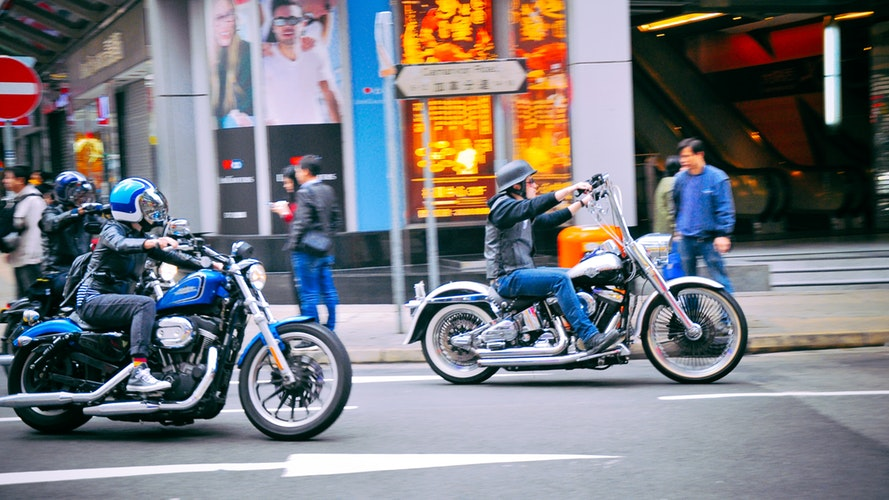helmet: (109, 179, 157, 224), (50, 173, 90, 211), (488, 160, 540, 186)
